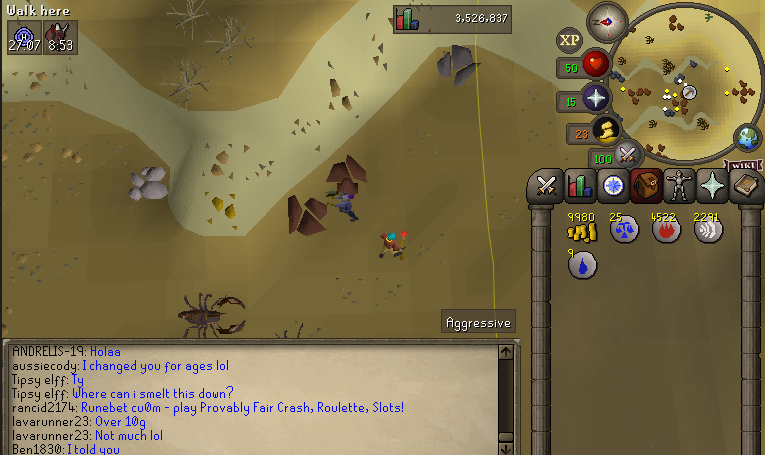depleted: (433, 39, 481, 89)
iron: (328, 149, 368, 199), (285, 192, 329, 237)
